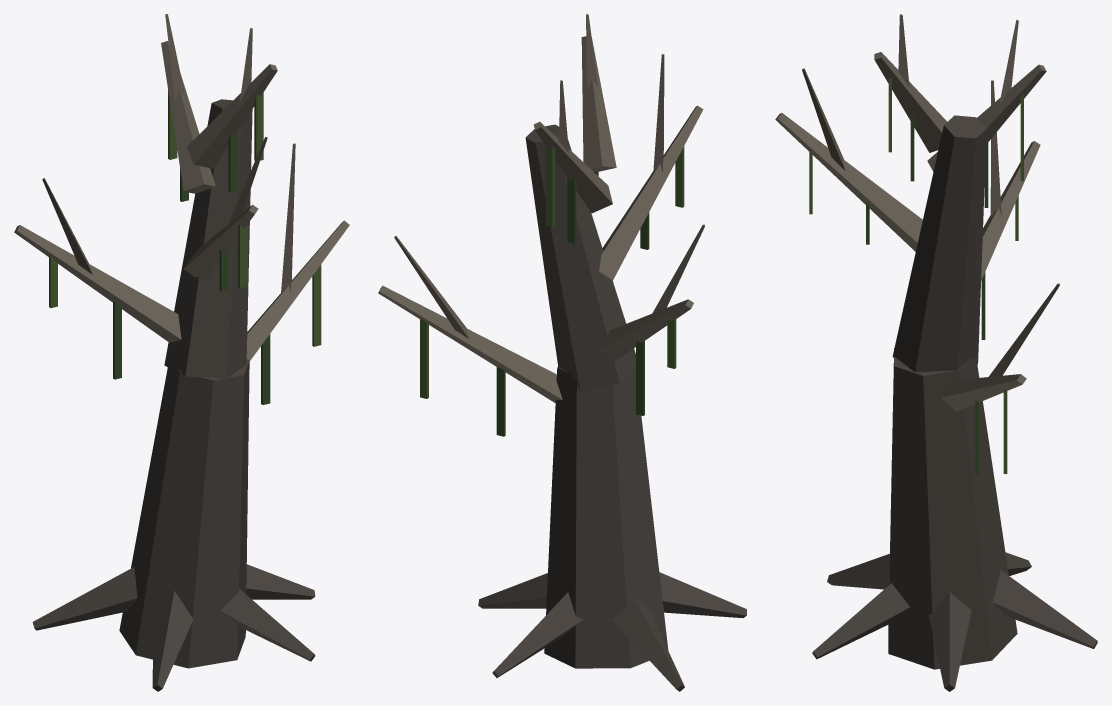
Rendered from decor_tree_big.glb.
3 views of the same model, side by side, from view 1: azimuth 30°, elevation 25°; view 2: azimuth 150°, elevation 25°; view 3: azimuth 270°, elevation 25° (orthographic). The views are drawn at different scales.
Visible parts, largest first — view 1: decor_tree_big; view 2: decor_tree_big; view 3: decor_tree_big.
Part boxes in pixels (bbox=[...]): decor_tree_big: bbox=[14, 14, 349, 691]; decor_tree_big: bbox=[378, 14, 746, 691]; decor_tree_big: bbox=[775, 14, 1097, 691].
Size of the model in its own units: 2.2 by 4 by 1.8.
